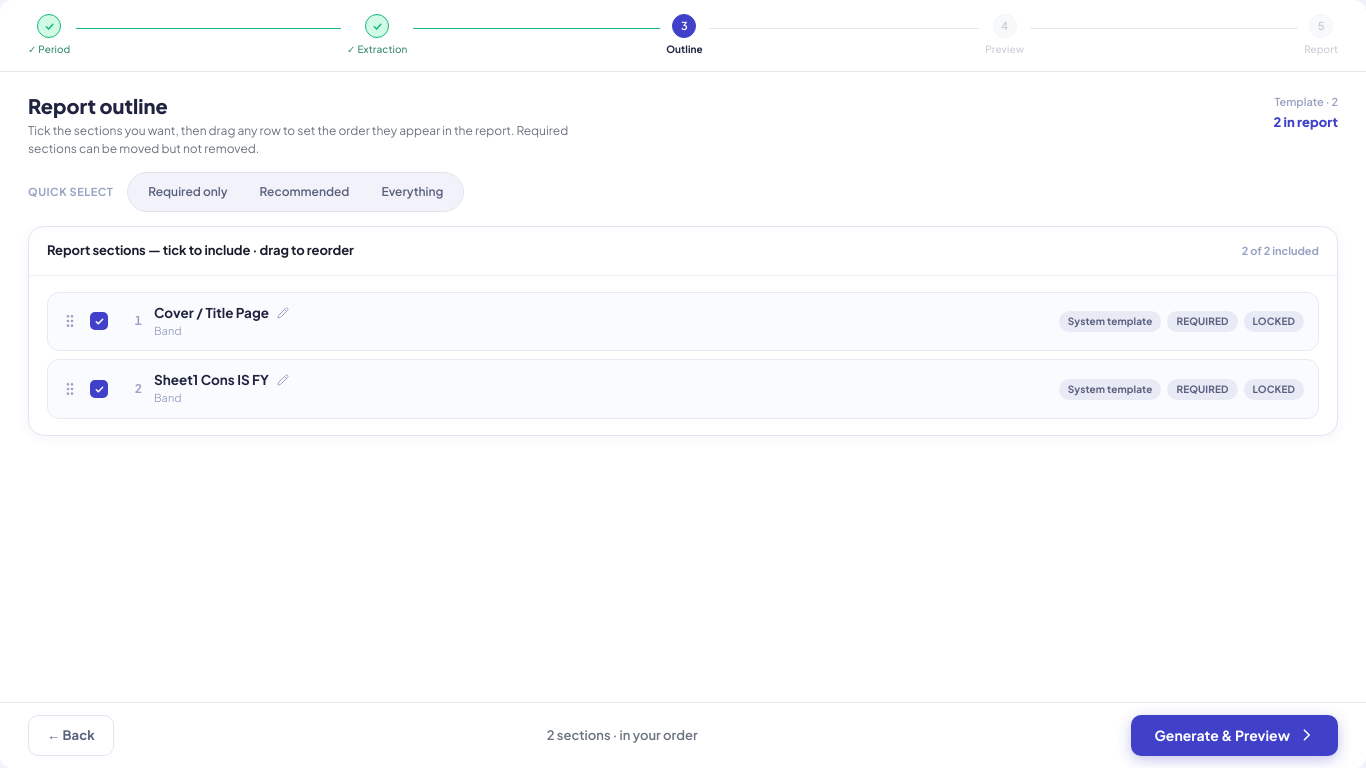
Test: renaming a section on the outline › puts the old name back and says so when the save fails
Check: the text "Cover / Title Page" is shown, box x1=154 y1=304 x2=269 y2=322
Click the button named "Rename Sheet1 Cons IS FY": (283, 380) x1=275 y1=372 x2=291 y2=388
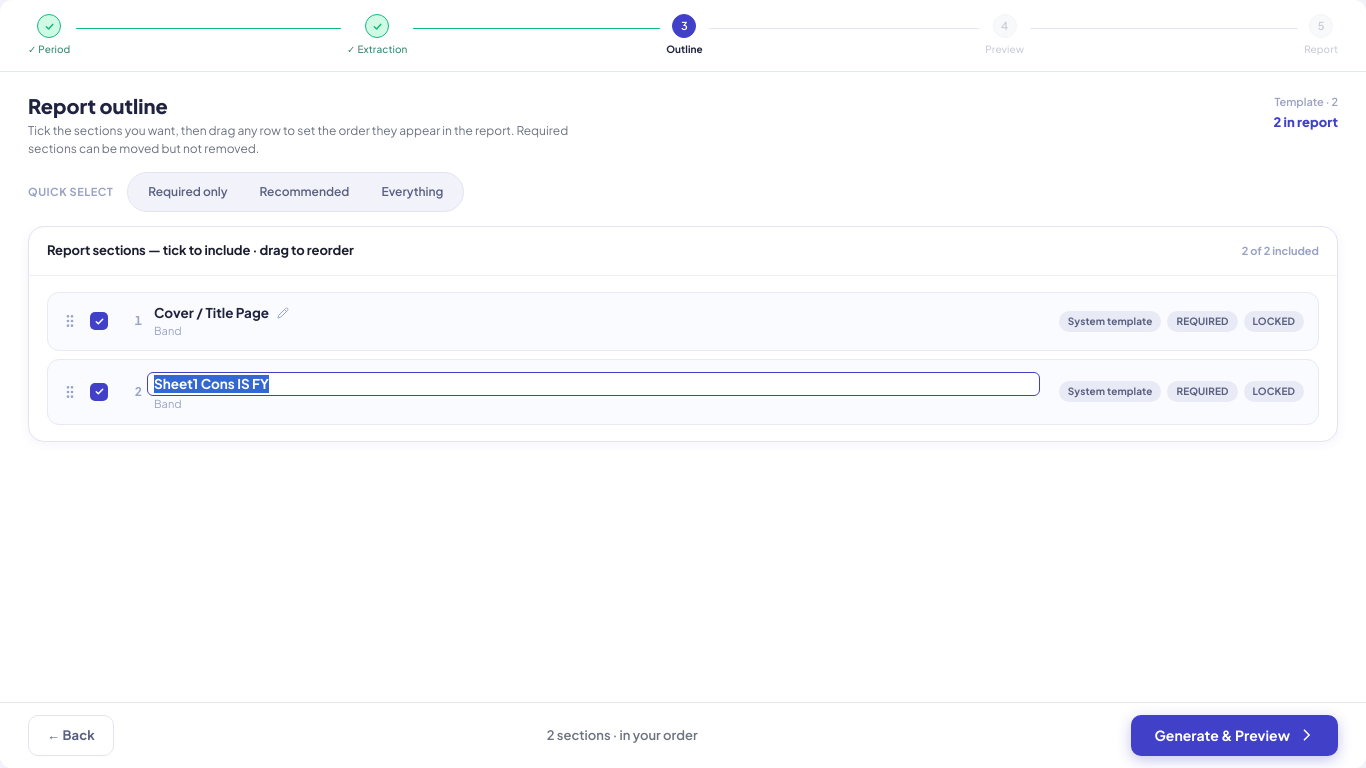
Replace the text in the field named "Section name for" with "Income Statement": (593, 384) x1=147 y1=372 x2=1040 y2=396
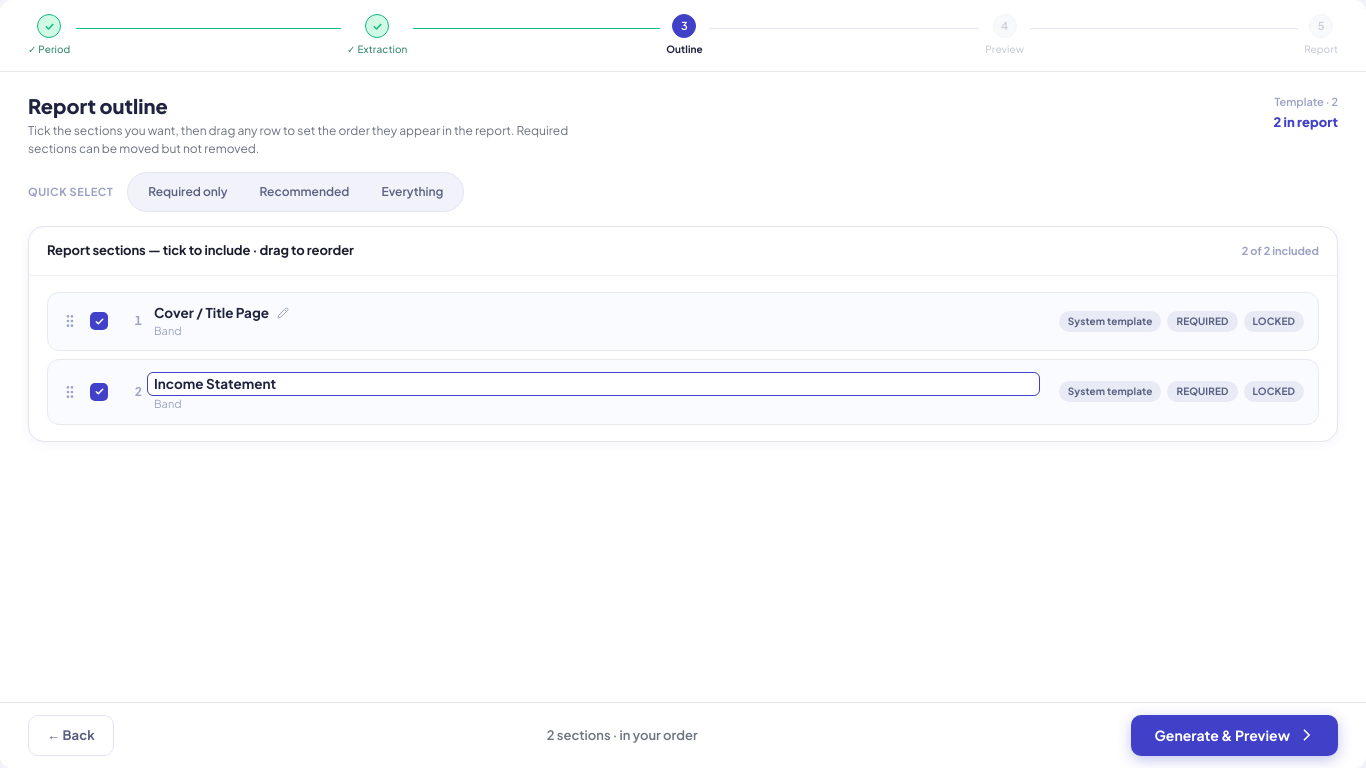
Press Enter in the field named "Section name for", box x1=147 y1=372 x2=1040 y2=396
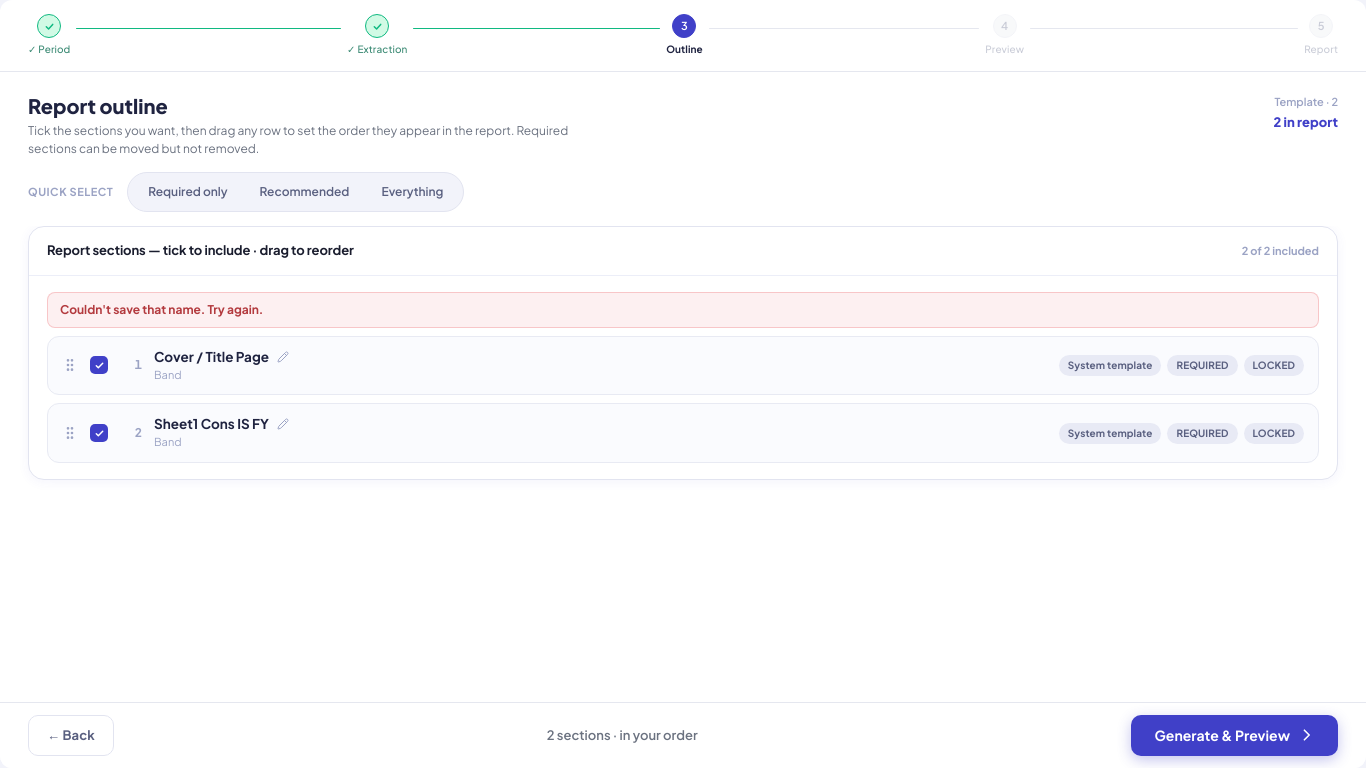
Check: the message shows "Couldn't save that name", box x1=60 y1=302 x2=263 y2=316
Check: the text "Sheet1 Cons IS FY" is shown, box x1=154 y1=415 x2=269 y2=433
